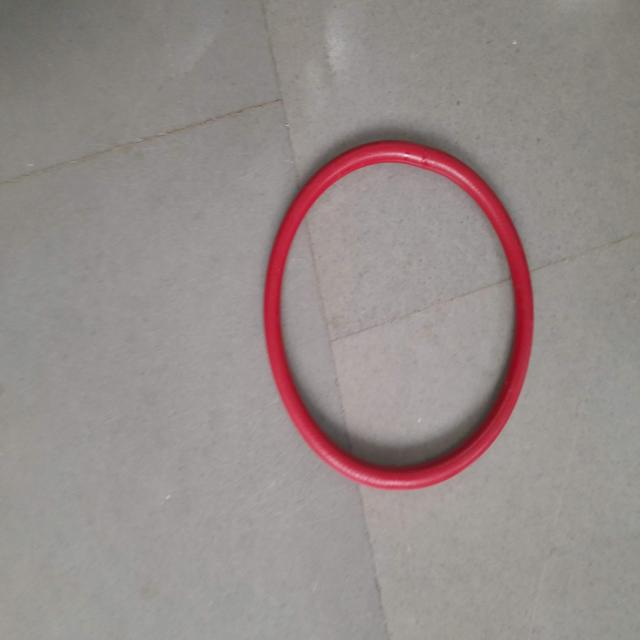daire: (266, 142, 533, 488)
